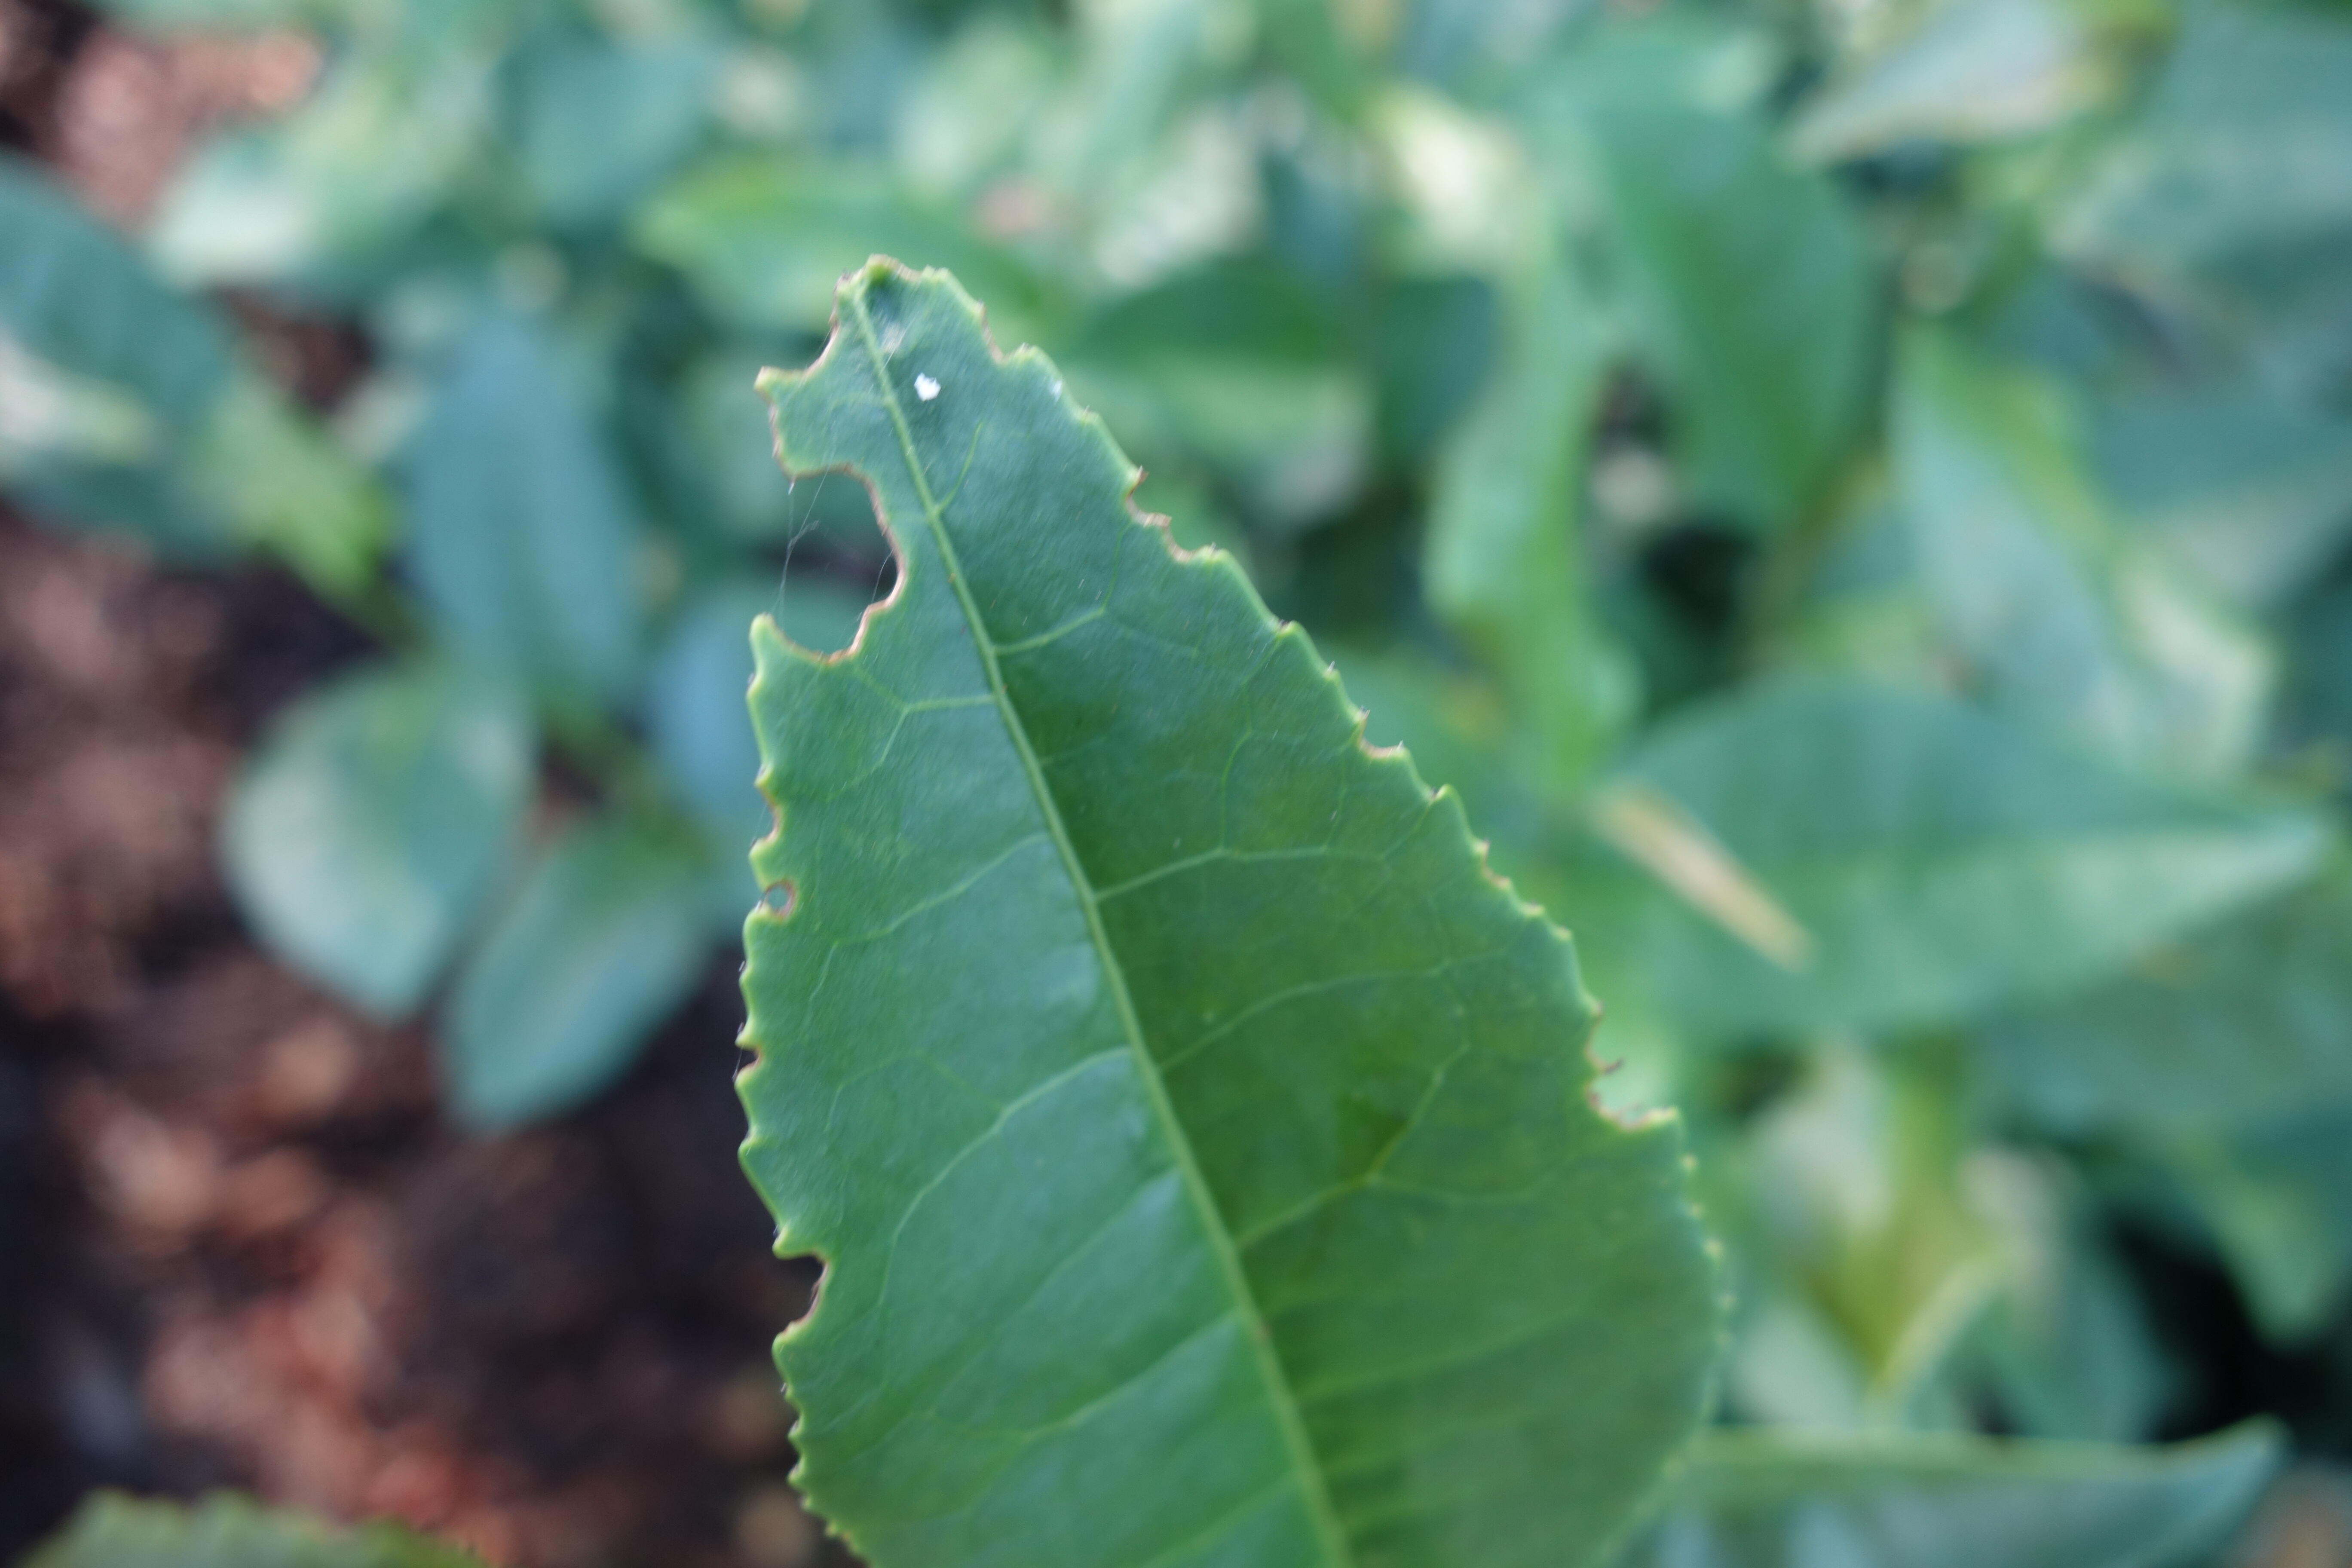chihuo_high: (723, 254, 1738, 1563)
